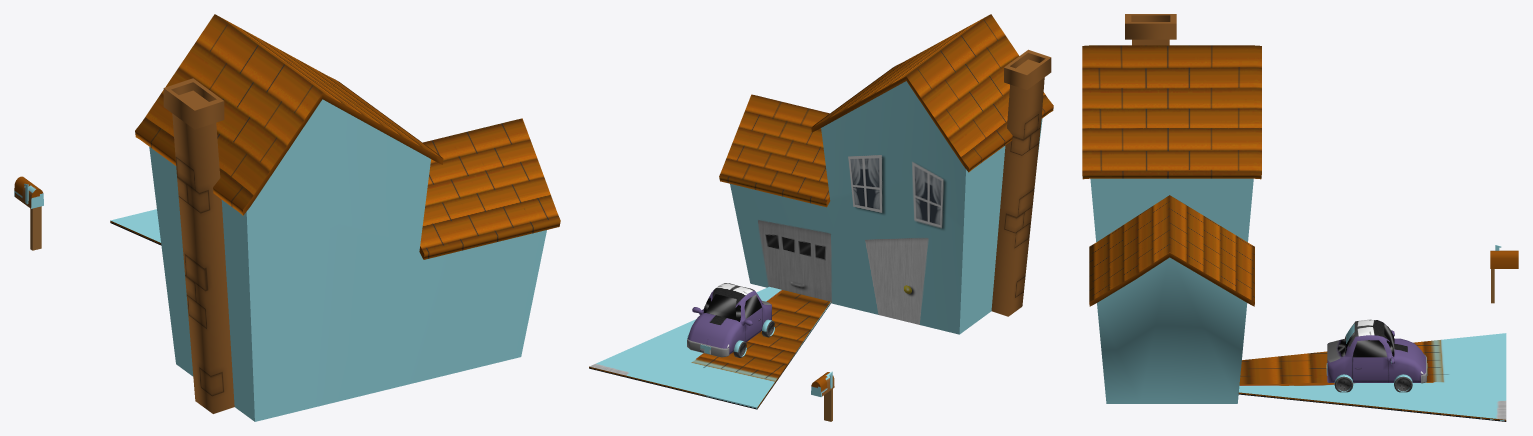
File: House.FBX
The picture shows the model from 3 angles, left to right: view 1: azimuth 30°, elevation 25°; view 2: azimuth 150°, elevation 25°; view 3: azimuth 270°, elevation 25°; orthographic projection. The views are drawn at different scales.
Visible parts, largest first — view 1: Box001, Box004, Cylinder007, Box005; view 2: Box001, Box004, Box003; view 3: Box001, Box004, Box003, Cylinder007.
Part boxes in pixels (<box>): Box001: <box>135,14,560,421</box>; Box004: <box>110,209,161,245</box>; Cylinder007: <box>14,176,43,208</box>; Box005: <box>30,206,41,250</box>; Box001: <box>719,14,1053,334</box>; Box004: <box>589,286,830,409</box>; Box003: <box>687,283,771,357</box>; Box001: <box>1082,14,1261,403</box>; Box004: <box>1238,333,1506,421</box>; Box003: <box>1327,319,1426,383</box>; Cylinder007: <box>1490,250,1518,268</box>.
Size of the model in its own units: 71.2 by 62.39 by 90.17.
